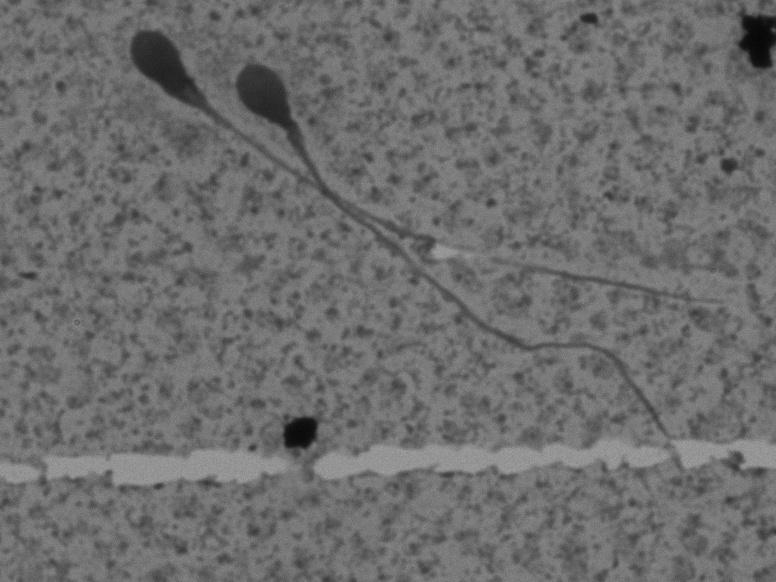Abnormal: (214, 38, 682, 442), (115, 20, 740, 312)
